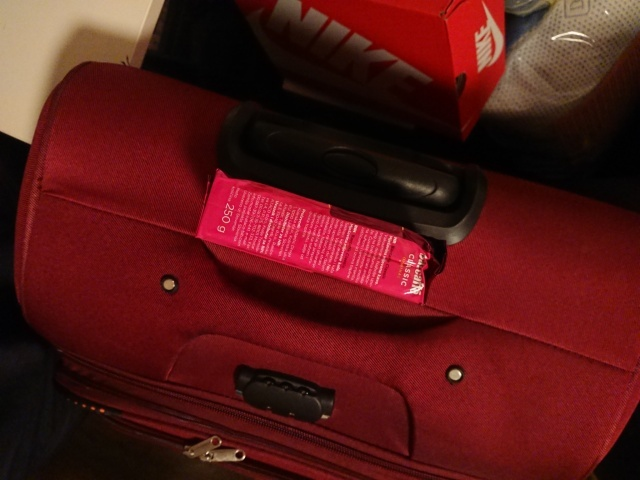Barcaffe Classic Original 225g: (192, 165, 443, 309)
